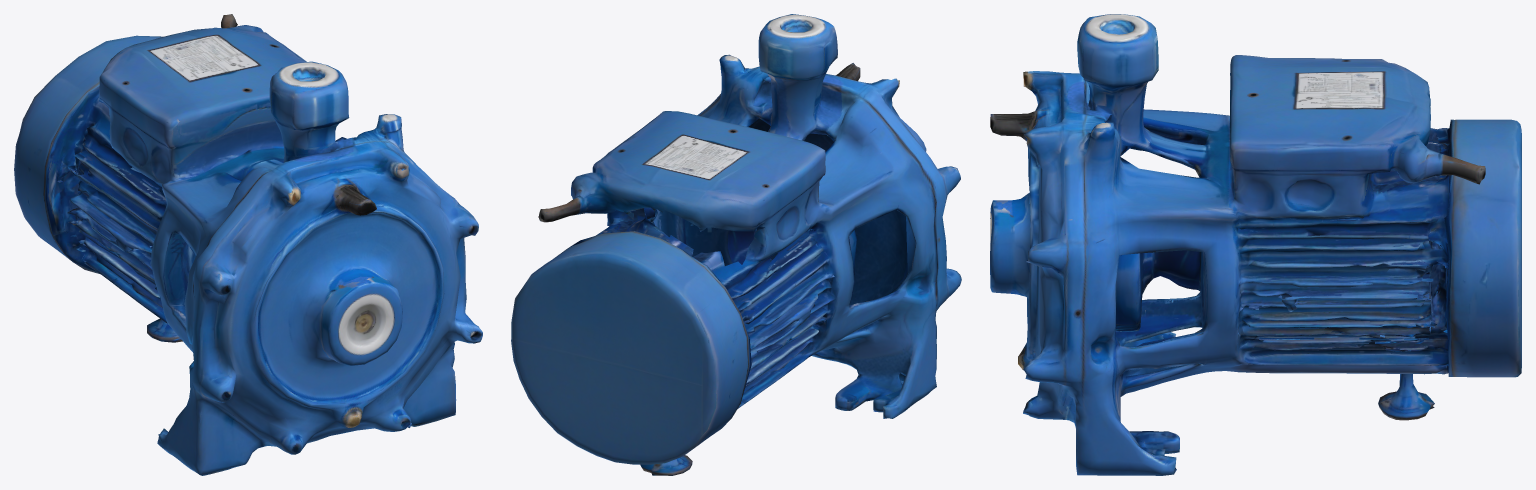
The model's file is Water_Pump_Handsome_0523220442_texture.glb.
3 views of the same model, side by side, from view 1: azimuth 30°, elevation 25°; view 2: azimuth 150°, elevation 25°; view 3: azimuth 270°, elevation 25° (orthographic). The views are drawn at different scales.
Bounding box in the file's own units: 1.24 × 1.6 × 2.01.
1 material, 1 textured.
